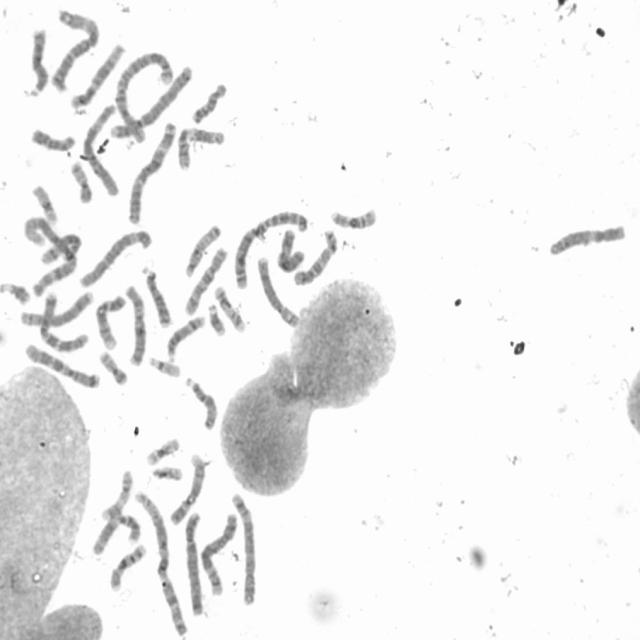A1: (133, 486, 190, 638), (20, 213, 80, 299)
A2: (230, 207, 310, 292), (109, 47, 176, 142)
A3: (124, 118, 178, 225), (48, 7, 101, 91)
B4: (107, 64, 193, 140), (182, 508, 204, 618)
B5: (228, 489, 259, 608), (198, 510, 240, 597)
C10: (181, 244, 229, 317), (291, 226, 340, 288)
C11: (174, 123, 226, 172), (91, 514, 142, 558)
C12: (69, 40, 126, 109), (545, 220, 627, 259)
C6: (77, 226, 154, 289), (80, 102, 121, 197)
C7: (22, 341, 102, 389), (37, 289, 90, 353)
C8: (254, 253, 302, 329), (17, 288, 95, 329)
C9: (167, 454, 206, 530), (94, 292, 128, 351)
D13: (140, 264, 172, 329), (24, 24, 50, 98)
D14: (165, 313, 206, 362), (37, 232, 83, 266)
D15: (182, 221, 223, 279), (182, 373, 219, 432)
E16: (106, 540, 148, 592), (327, 203, 378, 231)
E17: (98, 468, 134, 522), (211, 283, 247, 335)
E18: (188, 80, 229, 126), (29, 125, 76, 153)
F19: (30, 181, 60, 226), (143, 436, 182, 466)
F20: (97, 348, 129, 387), (68, 158, 93, 205)
G21: (205, 300, 228, 338), (0, 279, 32, 305)
G22: (146, 354, 182, 378), (150, 465, 185, 481)
X: (122, 281, 148, 367), (274, 225, 306, 274)
